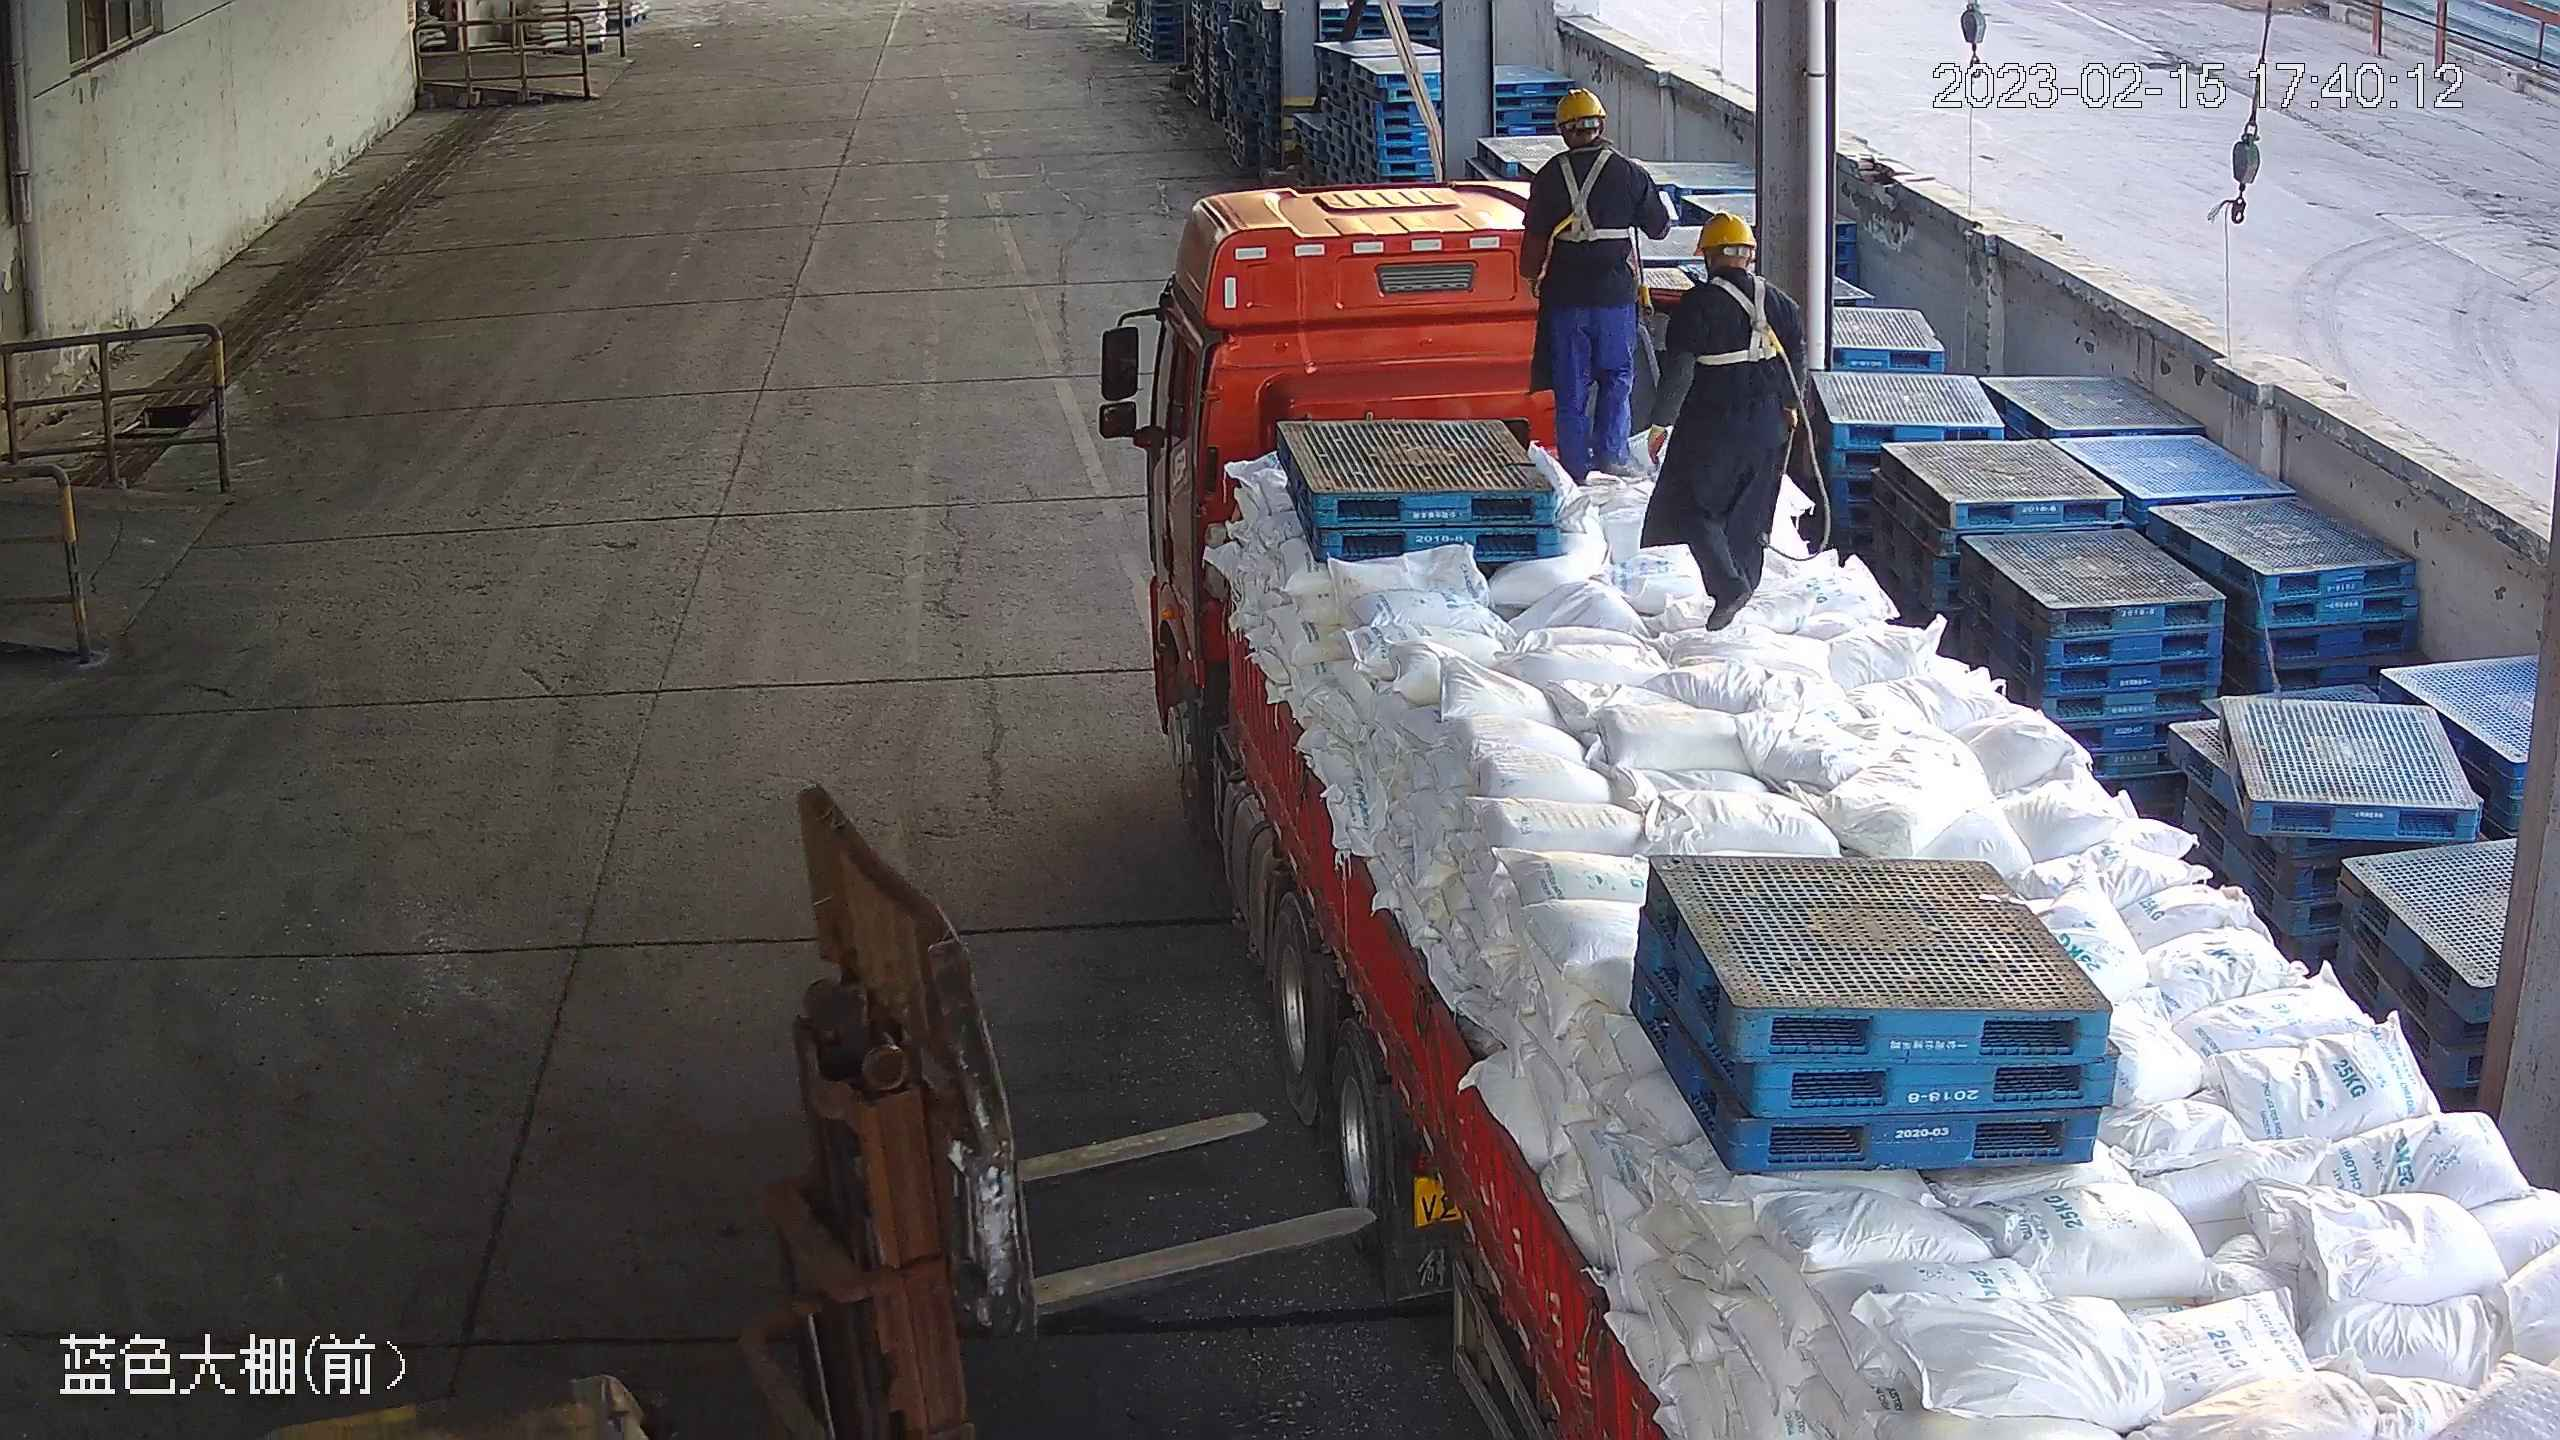belt: (1526, 149, 1634, 251), (1690, 274, 1790, 370)
head: (1659, 209, 1805, 328), (1527, 88, 1651, 187)
helmet: (1692, 211, 1756, 256), (1553, 88, 1610, 126)
people: (1645, 209, 1807, 633), (1516, 87, 1669, 484)
truck: (1144, 175, 2560, 1440)
